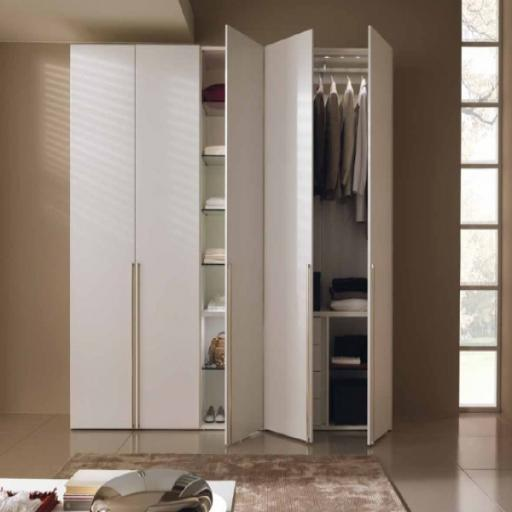bus: (70, 25, 264, 448), (264, 24, 395, 450)
